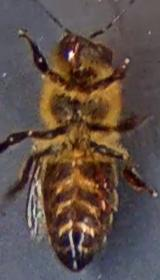varroa_mite: (90, 187, 113, 216)
